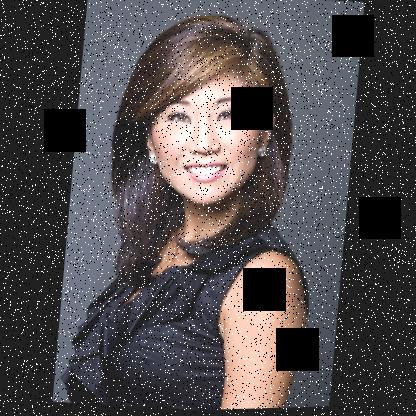Female: (140, 62, 280, 210)
